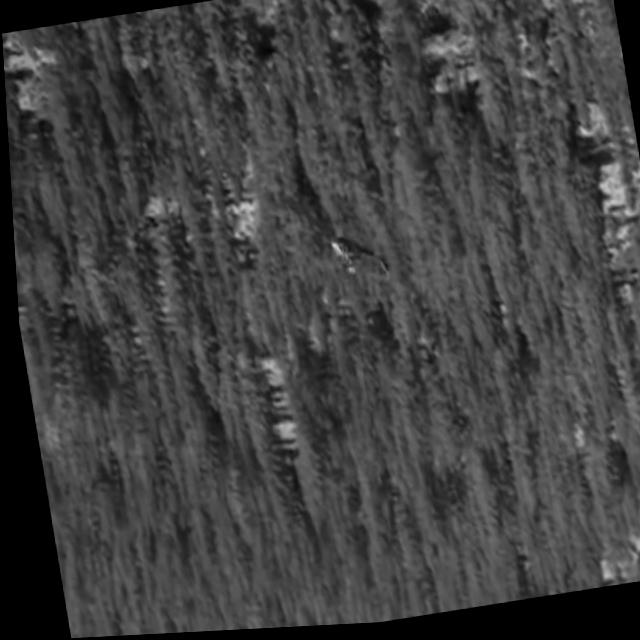helikopter: (297, 208, 408, 315)
